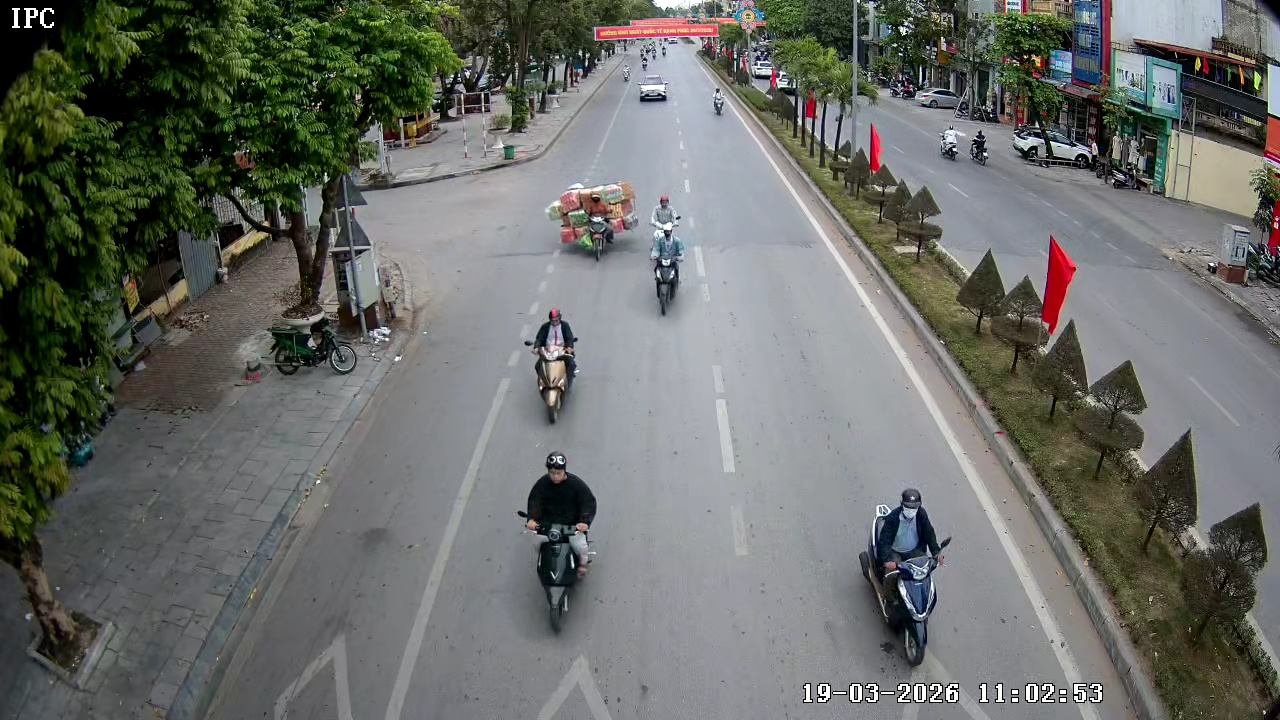bike: (516, 451, 600, 634)
car: (634, 71, 673, 107)
motorbike: (859, 487, 952, 666), (516, 450, 600, 634), (259, 312, 370, 386), (521, 307, 582, 425), (649, 204, 686, 315), (577, 186, 617, 260), (711, 82, 733, 118), (618, 62, 633, 83)
